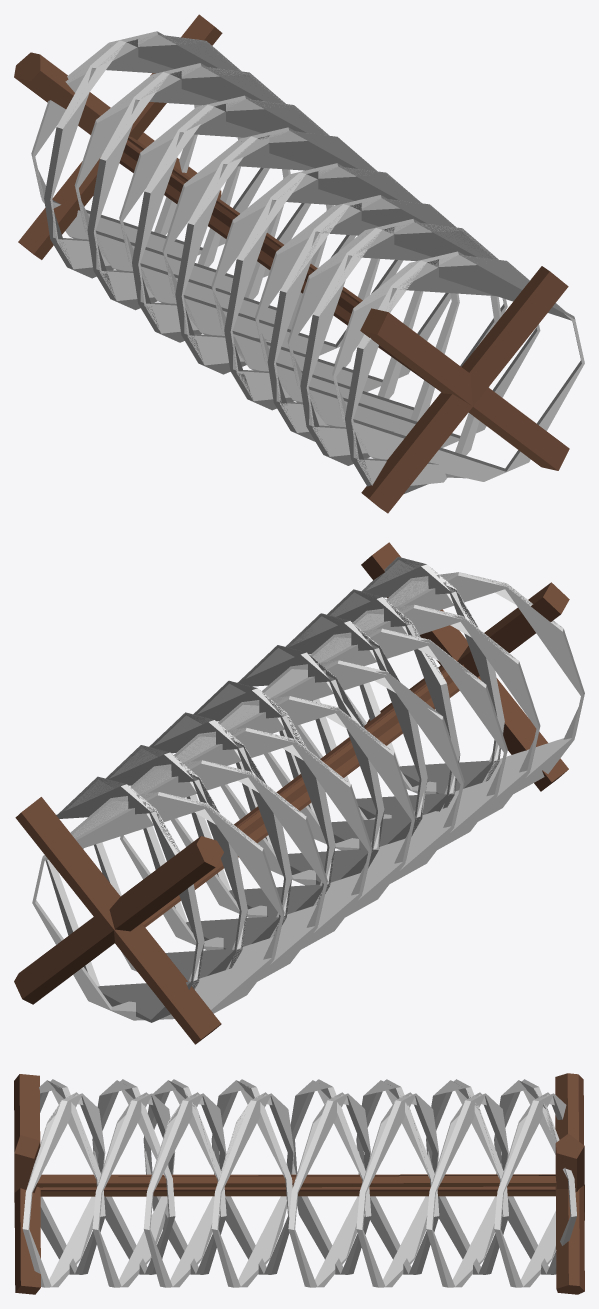
File: Barbed.fbx
3 views of the same model, one above another, from view 1: azimuth 30°, elevation 25°; view 2: azimuth 150°, elevation 25°; view 3: azimuth 270°, elevation 25° (orthographic). The views are drawn at different scales.
Parts seen in each view (by area): view 1: Cylinder.001, Cylinder.005, Cylinder.008, Cylinder.016, Cylinder.009, Cylinder.003, Cylinder.018, Cylinder.014, Cylinder.011, Cylinder.007, Cylinder.010, Cylinder.020 (+9 smaller); view 2: Cylinder.012, Cylinder.002, Cylinder, Cylinder.017, Cylinder.013, Cylinder.015, Cylinder.019, Cylinder.006, Cylinder.010, Cylinder.011, Cylinder.007, Cylinder.014 (+9 smaller); view 3: Cylinder.004, Cylinder.018, Cylinder.014, Cylinder.005, Cylinder.020, Cylinder.016, Cylinder.009, Cylinder, Cylinder.008, Cylinder.003, Cylinder.011, Cylinder.015 (+9 smaller).
Boxes of the visible parts, left/top/right/bottom form: Cylinder.001: left=361, top=266, right=568, bottom=513; Cylinder.005: left=332, top=251, right=584, bottom=481; Cylinder.008: left=287, top=219, right=540, bottom=447; Cylinder.016: left=162, top=127, right=403, bottom=355; Cylinder.009: left=74, top=63, right=310, bottom=292; Cylinder.003: left=360, top=308, right=569, bottom=470; Cylinder.018: left=211, top=163, right=451, bottom=391; Cylinder.014: left=119, top=95, right=355, bottom=323; Cylinder.011: left=31, top=31, right=269, bottom=258; Cylinder.007: left=300, top=227, right=459, bottom=465; Cylinder.010: left=87, top=71, right=243, bottom=310; Cylinder.020: left=255, top=195, right=507, bottom=419; Cylinder.012: left=32, top=792, right=284, bottom=1020; Cylinder.002: left=15, top=797, right=221, bottom=1044; Cylinder: left=14, top=836, right=223, bottom=1004; Cylinder.017: left=220, top=660, right=464, bottom=885; Cylinder.013: left=120, top=727, right=372, bottom=950; Cylinder.015: left=171, top=696, right=415, bottom=917; Cylinder.019: left=264, top=628, right=507, bottom=850; Cylinder.006: left=344, top=572, right=584, bottom=794; Cylinder.010: left=83, top=760, right=327, bottom=981; Cylinder.011: left=45, top=776, right=204, bottom=1022; Cylinder.007: left=295, top=604, right=540, bottom=821; Cylinder.014: left=143, top=712, right=292, bottom=949; Cylinder.004: left=37, top=1174, right=556, bottom=1196; Cylinder.018: left=211, top=1092, right=294, bottom=1287; Cylinder.014: left=356, top=1092, right=438, bottom=1287; Cylinder.005: left=22, top=1092, right=105, bottom=1287; Cylinder.020: left=143, top=1092, right=226, bottom=1287; Cylinder.016: left=288, top=1092, right=370, bottom=1287; Cylinder.009: left=426, top=1092, right=508, bottom=1287; Cylinder: left=555, top=1073, right=584, bottom=1294; Cylinder.008: left=92, top=1092, right=175, bottom=1287; Cylinder.003: left=14, top=1074, right=40, bottom=1294; Cylinder.011: left=494, top=1092, right=566, bottom=1287; Cylinder.015: left=290, top=1079, right=371, bottom=1274.
Size of the model in its own units: 18.19 by 16.56 by 47.98.
